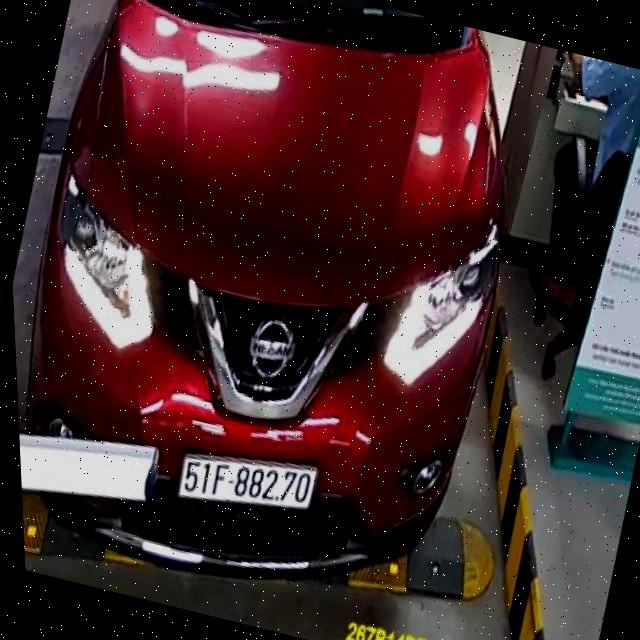car: (0, 0, 580, 635)
plate: (167, 434, 325, 534)
